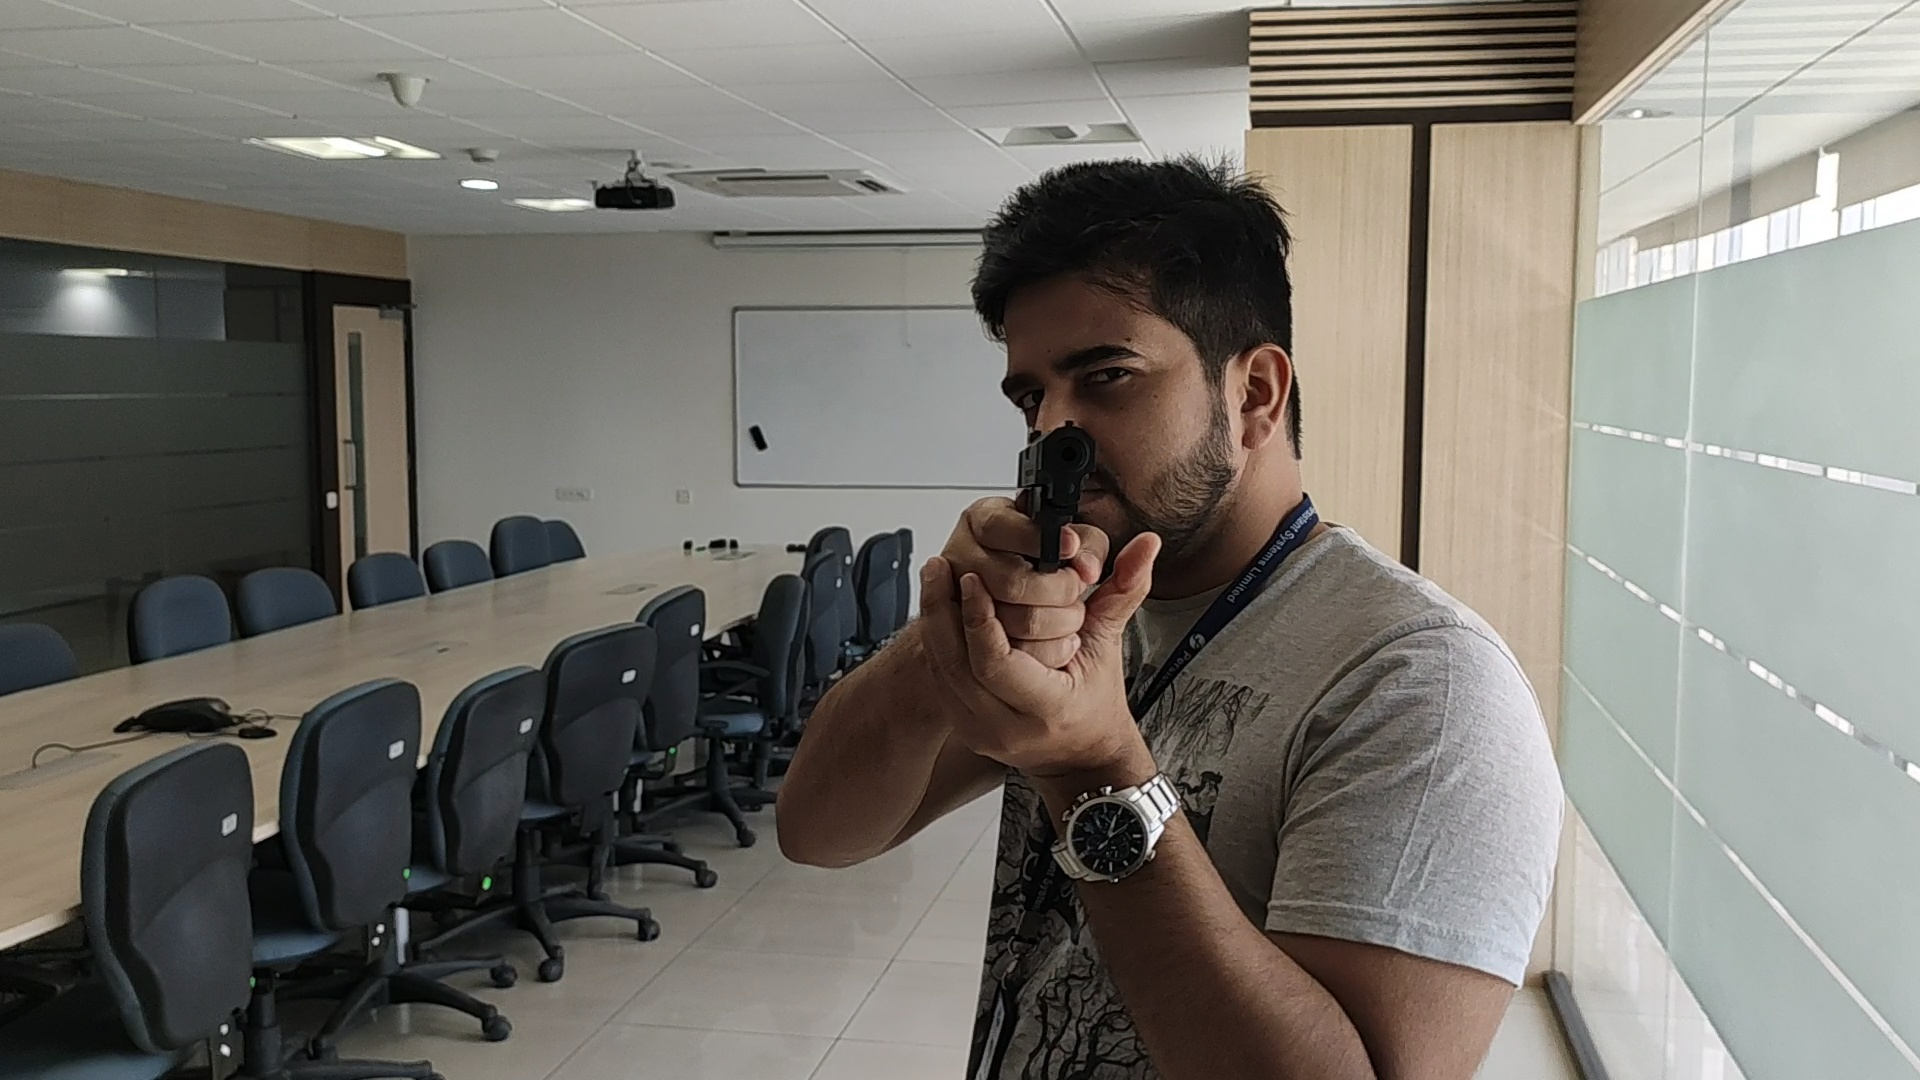gun: (1015, 426, 1097, 535)
